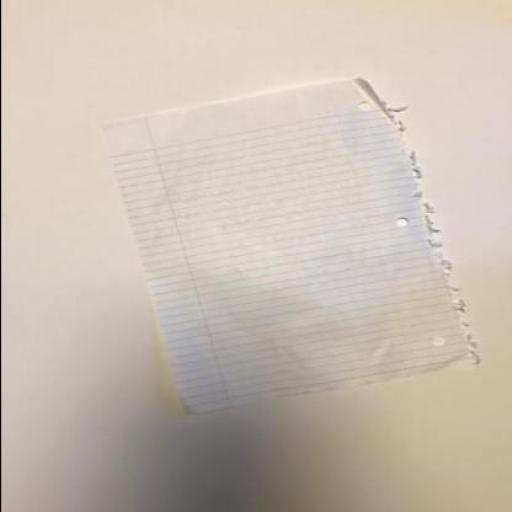paper: (102, 76, 478, 414)
